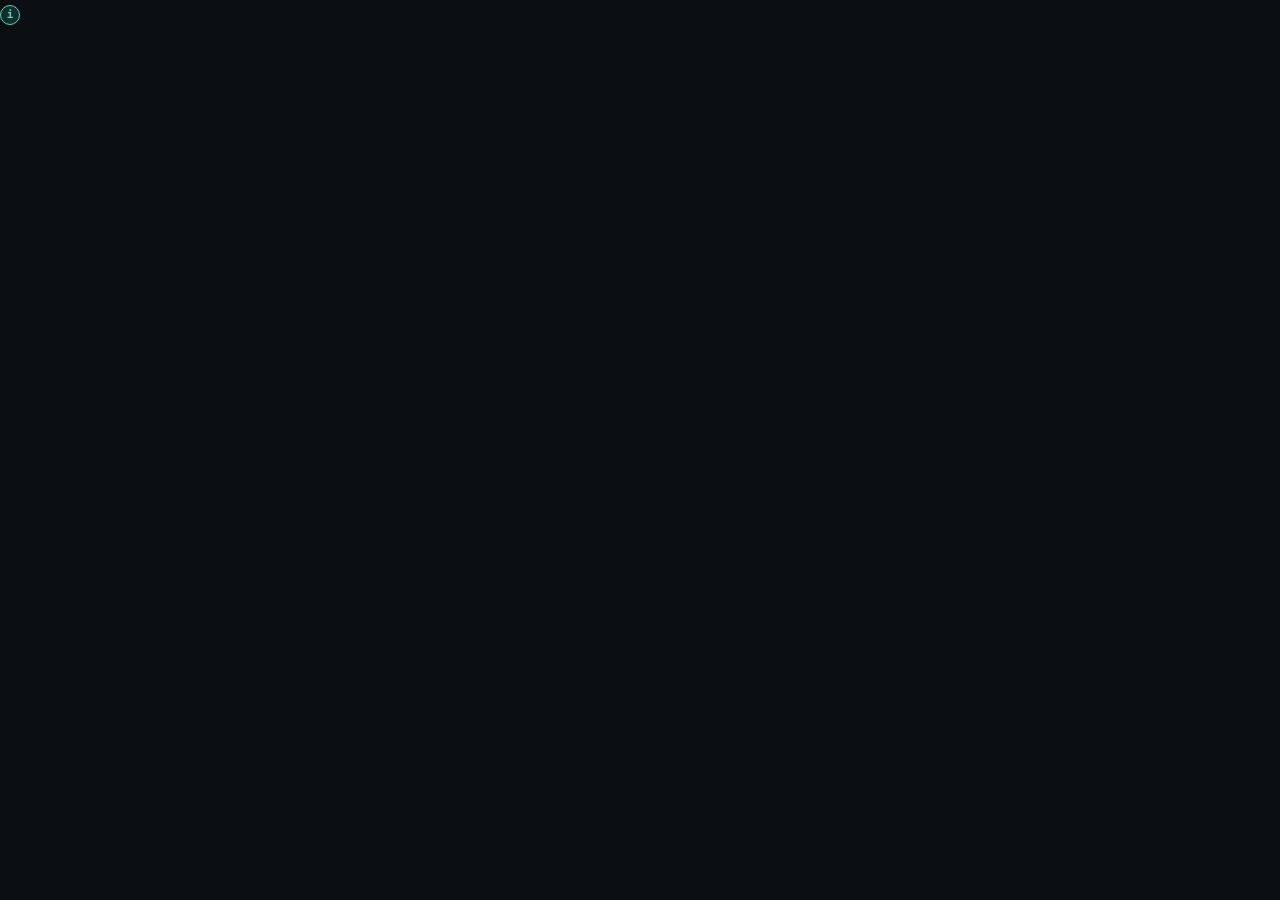
pulsante di spiegazione › mostra il consiglio pratico quando la voce ne ha uno
This screenshot has width=1280, height=900.
What coordinates should you click on to do the following:
click the button named "cosa significa"
I would click on:
 (10, 14)
Its box is [0, 4, 20, 24].
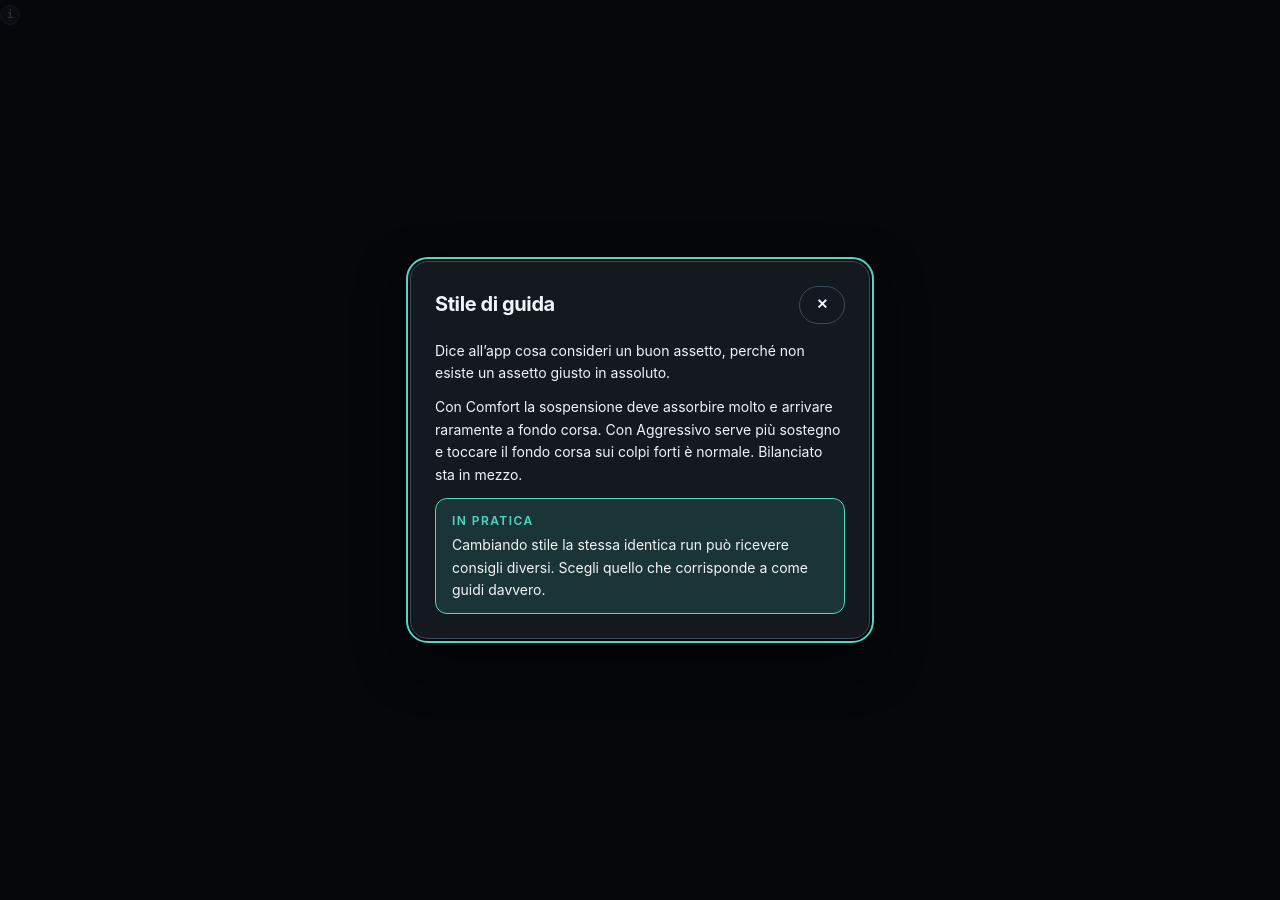
Check: the text "In pratica" is shown, box [452, 513, 534, 528]
